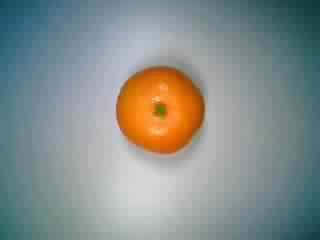orange: (109, 59, 205, 155)
